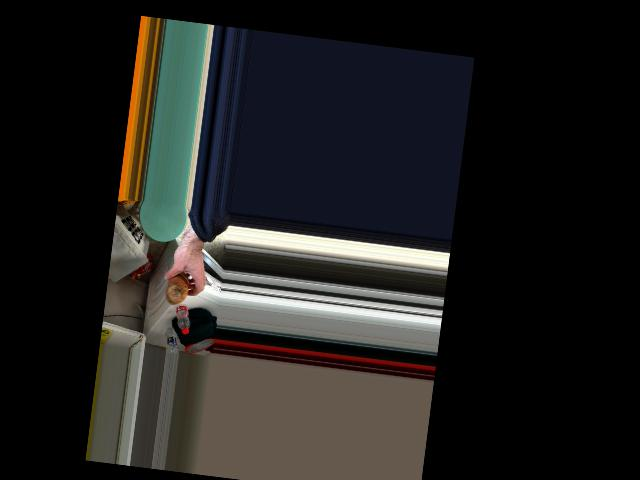sweet_potato: (160, 267, 193, 308)
